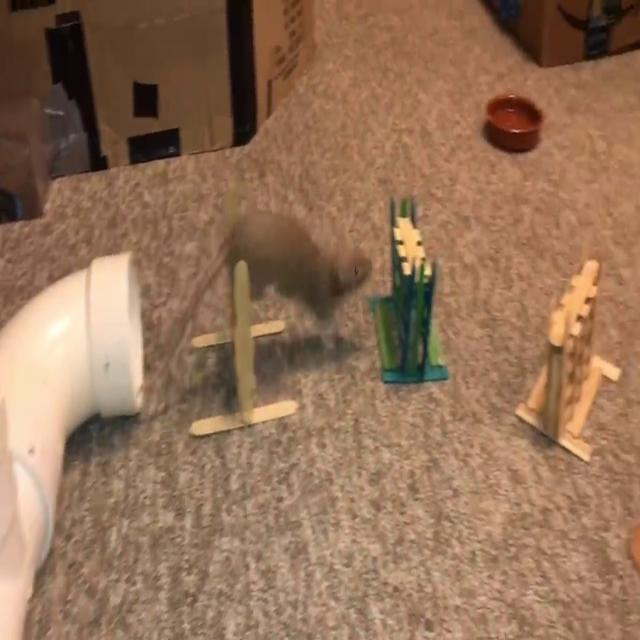rat: (228, 206, 372, 344)
